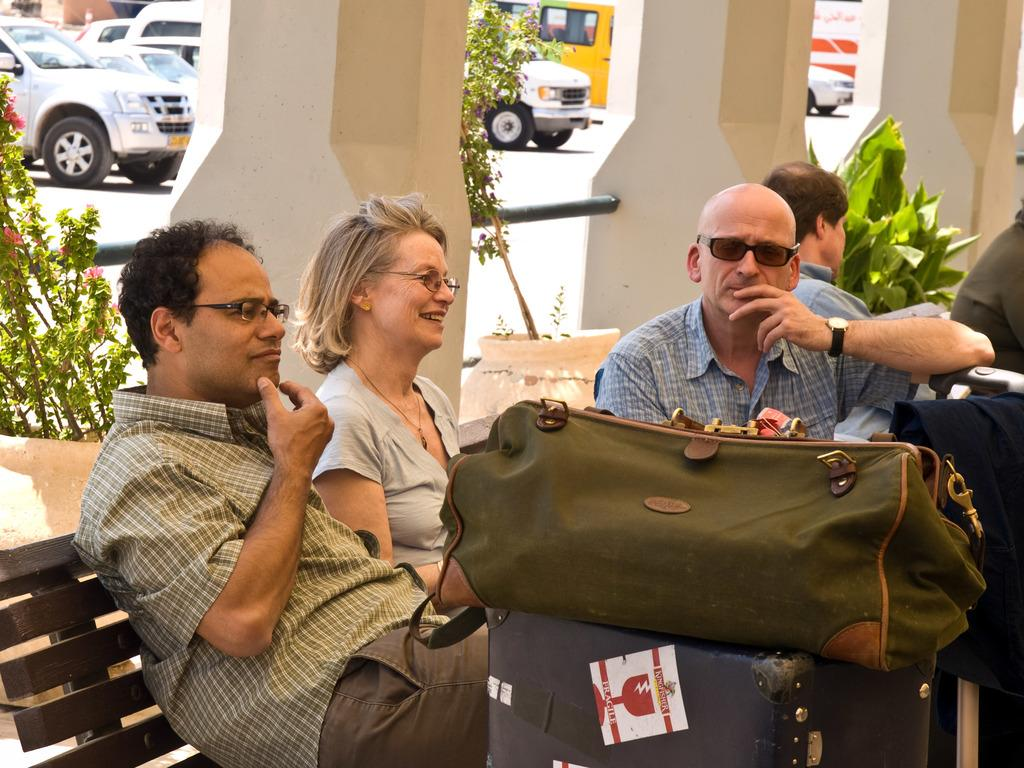Luggage-and-bags: (411, 401, 994, 666), (488, 600, 926, 767), (879, 362, 1023, 698)
